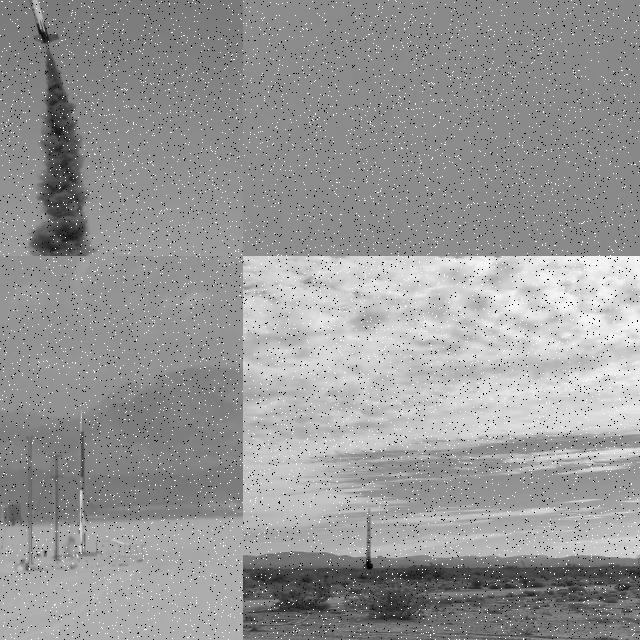Rocket: (19, 0, 59, 46), (76, 409, 87, 543), (362, 506, 374, 570)
